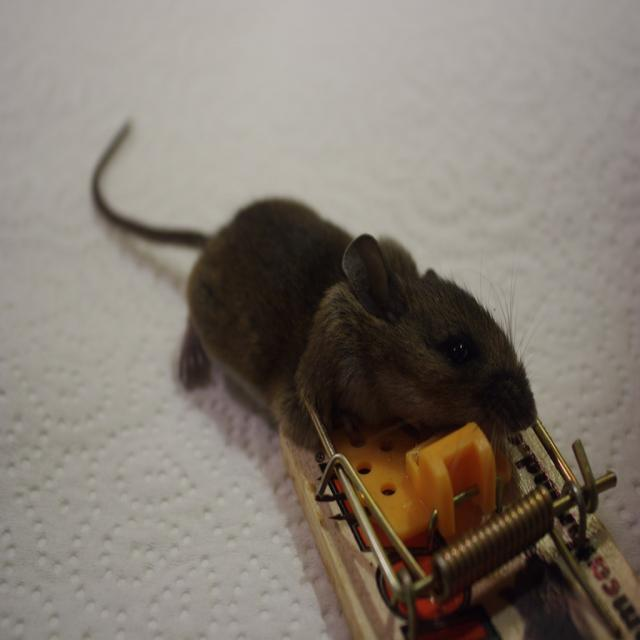rat: (88, 122, 536, 448)
